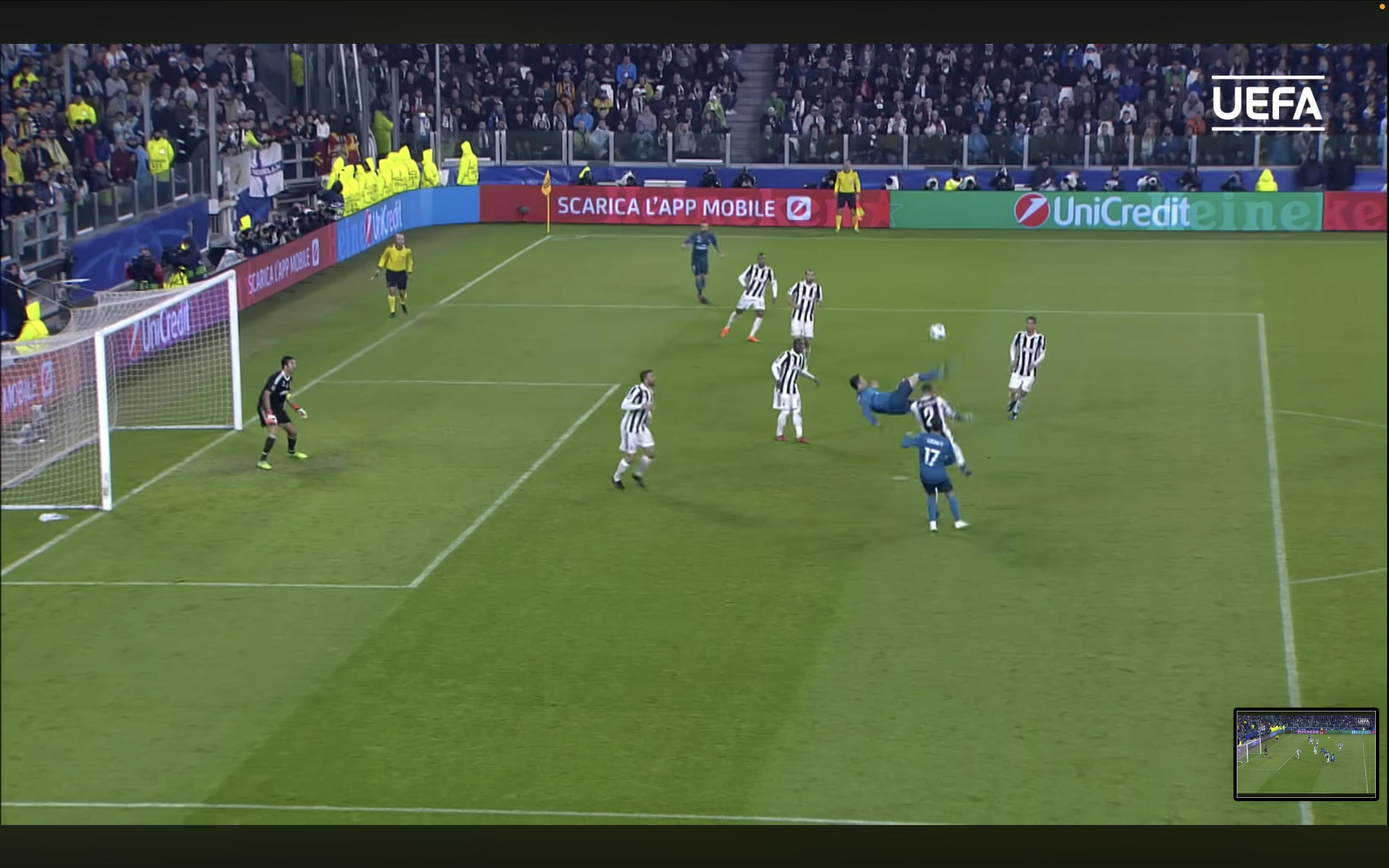ball: (929, 323, 946, 341)
goalkeeper: (258, 356, 308, 470)
player: (902, 425, 967, 532), (849, 367, 946, 426), (912, 383, 971, 476), (612, 370, 656, 490), (720, 253, 778, 342), (771, 339, 819, 443), (1007, 317, 1045, 420), (682, 222, 723, 304), (787, 269, 823, 355), (1326, 753, 1334, 763), (1337, 743, 1343, 751), (1296, 748, 1300, 760)
referee: (372, 234, 413, 318), (835, 161, 863, 232)
